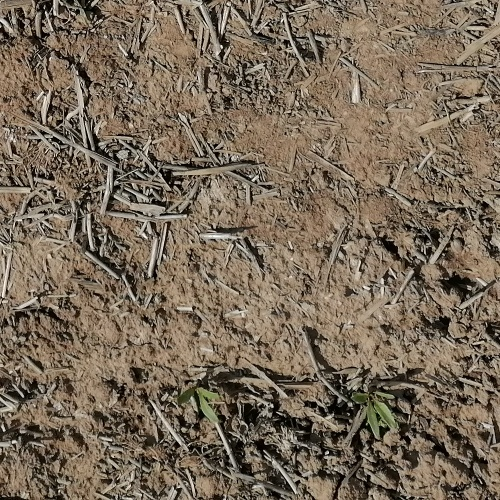beet: (352, 388, 397, 438), (177, 382, 224, 427)
